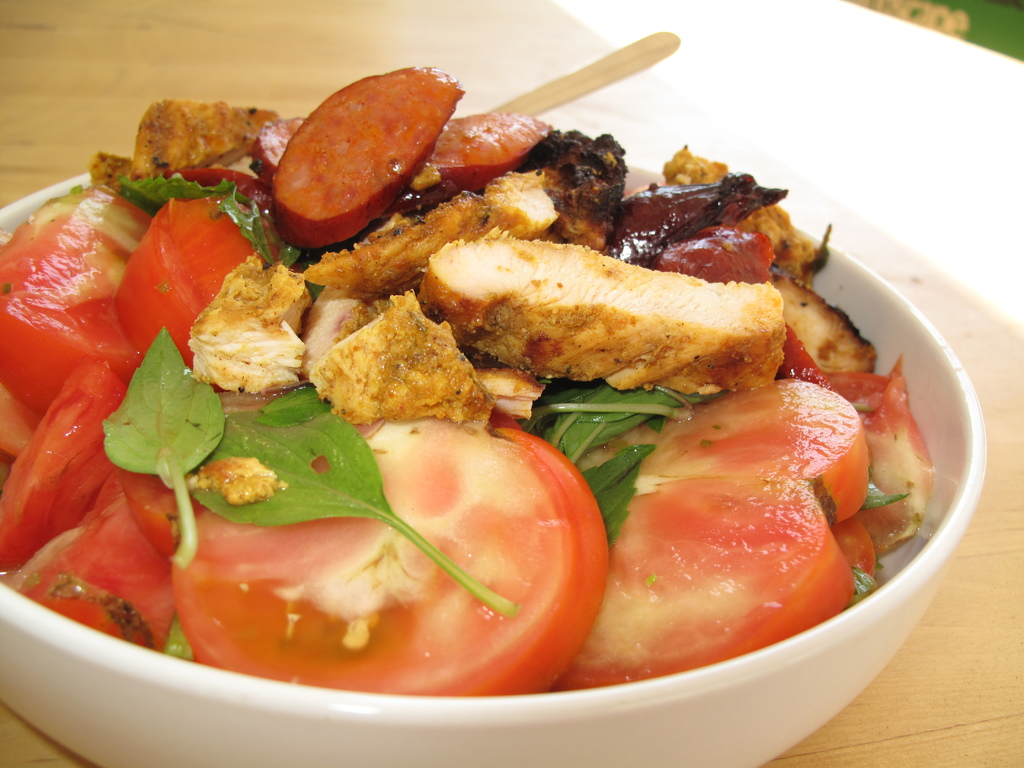Tomato: (174, 414, 608, 702), (549, 378, 872, 687), (113, 195, 293, 385), (0, 184, 149, 409), (29, 469, 192, 652), (0, 352, 131, 569)
